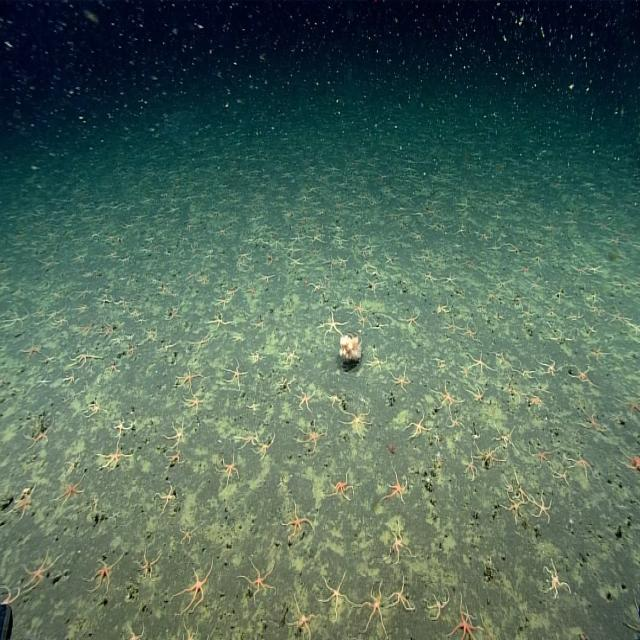brittle-stars: (356, 577, 388, 637), (175, 566, 214, 612), (318, 570, 352, 617), (450, 592, 483, 640), (24, 550, 61, 592), (239, 559, 276, 600), (88, 553, 122, 594), (288, 595, 318, 640), (382, 520, 413, 562), (281, 502, 314, 539), (542, 558, 572, 598), (98, 441, 132, 472), (388, 574, 415, 613), (57, 474, 87, 507), (426, 584, 452, 622), (568, 447, 596, 482), (10, 483, 36, 520), (432, 379, 460, 413), (341, 409, 372, 439), (215, 451, 240, 487), (25, 420, 55, 450), (329, 469, 357, 501), (383, 470, 408, 505), (299, 421, 326, 453), (529, 488, 552, 524), (405, 409, 431, 440), (136, 548, 160, 581), (490, 422, 516, 452), (526, 441, 554, 468), (476, 442, 504, 469), (579, 406, 604, 436), (320, 312, 346, 340), (175, 365, 201, 392), (502, 494, 526, 523), (223, 358, 246, 388), (466, 350, 491, 377), (156, 482, 179, 511), (0, 580, 21, 610), (296, 385, 318, 413), (166, 418, 188, 446), (253, 433, 275, 461), (390, 365, 411, 394), (71, 348, 101, 368), (0, 310, 28, 330), (568, 362, 592, 385), (621, 392, 640, 421), (182, 391, 205, 414), (461, 452, 478, 482), (111, 416, 133, 439), (280, 343, 301, 367), (189, 333, 214, 353), (514, 467, 528, 502), (207, 313, 232, 332), (122, 622, 148, 640), (606, 306, 632, 324), (494, 351, 512, 377), (537, 355, 558, 377), (365, 350, 386, 372), (165, 446, 186, 468), (236, 429, 258, 450), (88, 398, 108, 420), (179, 522, 197, 546), (274, 375, 294, 396), (618, 452, 640, 471), (21, 342, 44, 360), (465, 384, 485, 404), (140, 326, 160, 346), (182, 618, 200, 640), (404, 308, 422, 329), (441, 317, 459, 338), (366, 276, 384, 296), (550, 468, 569, 485), (462, 320, 478, 340), (46, 305, 66, 321), (513, 362, 533, 378), (166, 305, 183, 323), (100, 318, 116, 337), (589, 348, 609, 363), (158, 339, 178, 354), (36, 375, 53, 392), (236, 247, 252, 265), (75, 284, 92, 300), (76, 322, 94, 337), (449, 415, 465, 431), (213, 293, 230, 308), (110, 364, 124, 382), (352, 299, 367, 315), (437, 299, 453, 314), (106, 359, 120, 376), (357, 312, 371, 328), (288, 255, 304, 269), (422, 270, 436, 286), (245, 282, 259, 298), (520, 306, 534, 322), (442, 272, 458, 286), (307, 281, 324, 294), (384, 251, 398, 266), (266, 250, 280, 265), (50, 317, 67, 329), (530, 394, 542, 410), (257, 274, 274, 285), (328, 392, 340, 407), (62, 372, 74, 387), (96, 295, 112, 306), (114, 299, 130, 310), (199, 274, 212, 287), (306, 246, 322, 256), (362, 262, 376, 273), (307, 236, 325, 244), (131, 307, 142, 320), (337, 256, 350, 267), (246, 402, 260, 412), (323, 259, 337, 269), (290, 234, 305, 243), (332, 237, 347, 246), (251, 350, 261, 363), (270, 238, 283, 248), (251, 320, 263, 330), (44, 355, 56, 365), (226, 288, 238, 298), (127, 346, 136, 357)
